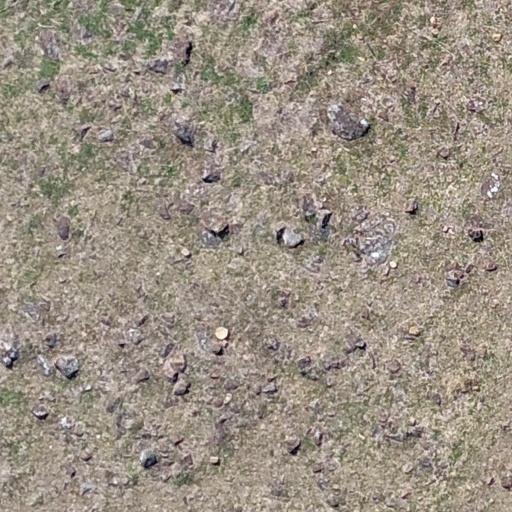stone: (326, 102, 370, 140), (168, 35, 194, 68), (37, 27, 62, 61), (443, 262, 475, 288), (112, 408, 141, 436), (199, 212, 229, 238), (54, 354, 82, 380), (275, 226, 305, 249), (172, 120, 196, 148), (161, 355, 186, 381), (342, 330, 366, 354), (481, 173, 502, 200), (1, 342, 21, 370), (54, 78, 74, 105), (210, 321, 232, 344), (136, 448, 159, 470), (399, 192, 420, 216), (117, 329, 141, 349), (21, 300, 42, 322), (55, 215, 72, 241), (305, 426, 325, 448), (301, 195, 318, 220), (147, 58, 171, 75), (200, 230, 222, 248), (459, 344, 480, 362), (75, 22, 94, 41), (172, 378, 192, 396), (403, 424, 427, 439), (105, 395, 122, 416), (73, 124, 91, 143), (43, 331, 61, 349), (276, 290, 292, 310), (466, 98, 486, 114), (269, 481, 289, 497), (238, 139, 258, 155), (202, 137, 220, 154), (426, 390, 443, 408), (157, 202, 173, 221), (31, 404, 50, 420), (351, 207, 370, 223), (296, 356, 313, 373), (133, 369, 151, 385), (260, 378, 278, 394), (200, 171, 222, 184), (403, 86, 417, 106), (324, 358, 344, 372), (79, 481, 96, 497), (107, 98, 125, 113), (160, 342, 176, 358), (280, 168, 296, 184), (35, 79, 52, 94), (319, 211, 333, 229), (178, 200, 196, 214), (138, 138, 157, 151), (467, 228, 487, 240), (386, 359, 402, 374), (324, 458, 340, 473), (223, 378, 240, 392), (97, 128, 114, 142), (117, 86, 134, 100), (296, 315, 314, 328), (71, 422, 86, 437), (288, 439, 302, 455), (265, 337, 281, 351), (376, 108, 392, 122), (325, 494, 341, 508), (0, 56, 16, 70), (57, 416, 73, 430), (406, 325, 424, 337), (429, 15, 441, 33), (37, 299, 52, 313), (499, 474, 512, 490), (180, 452, 193, 468), (251, 383, 265, 397), (437, 147, 451, 160), (387, 257, 400, 270), (137, 313, 149, 327), (212, 396, 225, 408), (401, 462, 414, 474), (312, 462, 325, 474), (56, 246, 68, 259), (361, 308, 372, 322), (442, 224, 456, 235), (484, 262, 498, 272), (170, 84, 184, 94), (80, 452, 93, 462), (180, 247, 192, 257), (222, 393, 232, 405), (209, 370, 221, 380), (400, 490, 412, 500), (486, 475, 496, 487), (173, 436, 184, 446), (492, 32, 502, 43), (500, 422, 511, 432), (210, 455, 220, 465), (236, 246, 246, 256), (117, 339, 127, 349), (82, 384, 92, 392), (68, 468, 76, 478), (491, 298, 499, 308), (55, 244, 64, 252), (472, 384, 481, 392), (112, 477, 120, 485), (310, 146, 318, 152)
